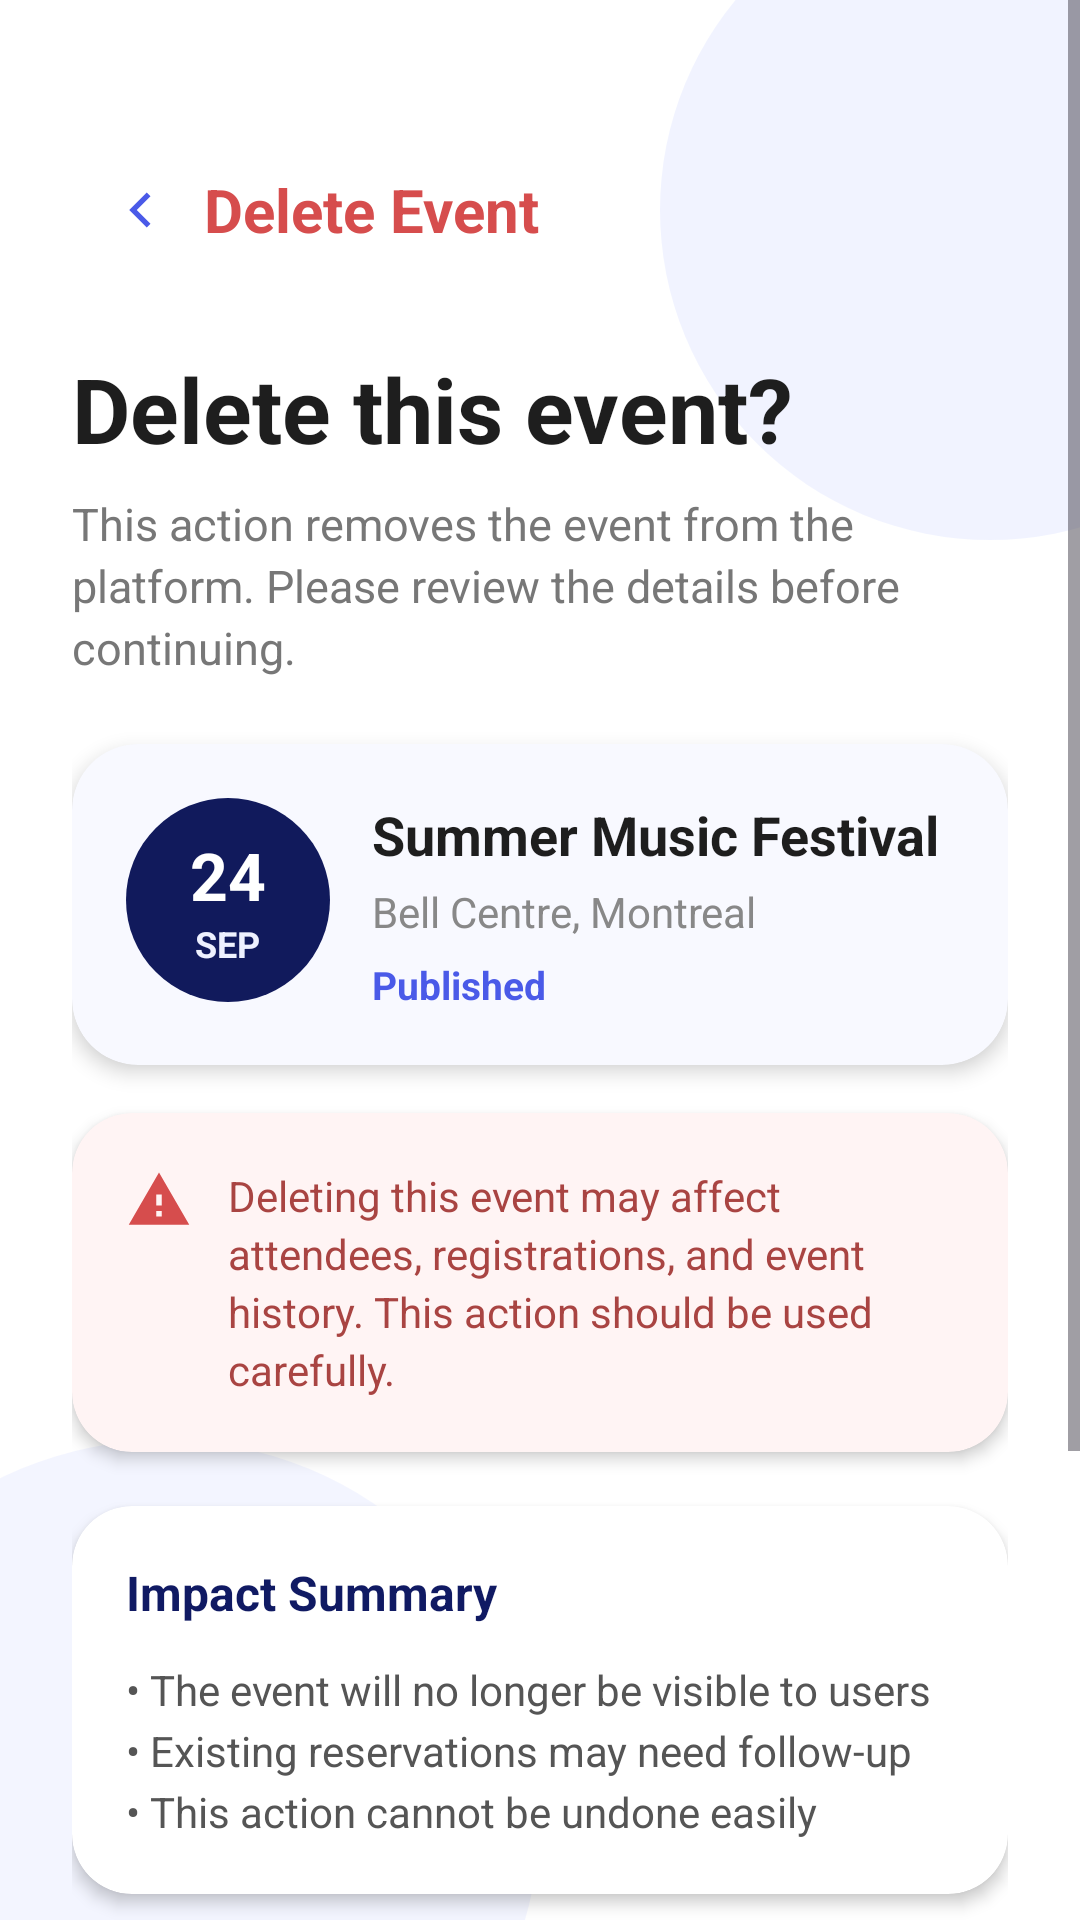

Icons on this 1080 x 1920 Android screen, each with the point to tap as (x,y):
Back: (140,210)
Warning: (159,1199)
